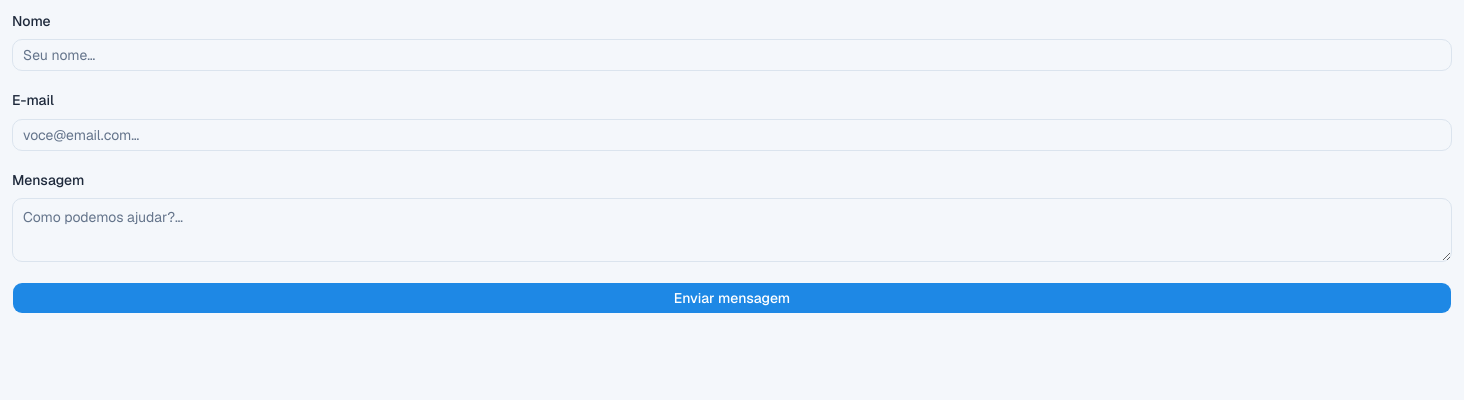
Test: FormularioContato › feedback de sucesso é acessível após envio
The image size is (1464, 400).
Type "Ana" into the field labelled "Nome".
click(732, 55); type("Ana")  # box [12,39,1452,71]
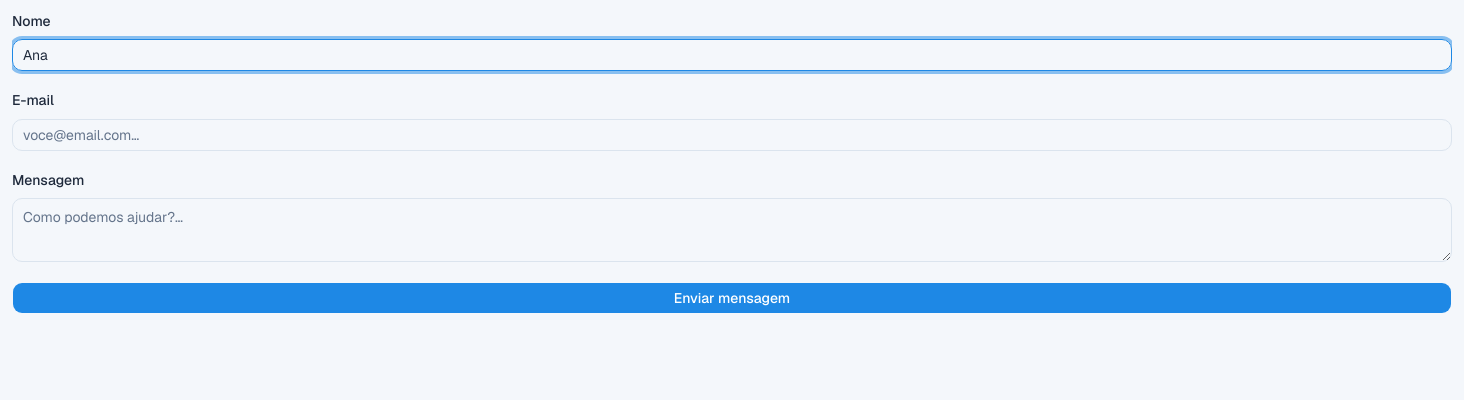
Type "ana@email.com" into the field labelled "E-mail".
click(732, 134); type("ana@email.com")  # box [12,118,1452,150]
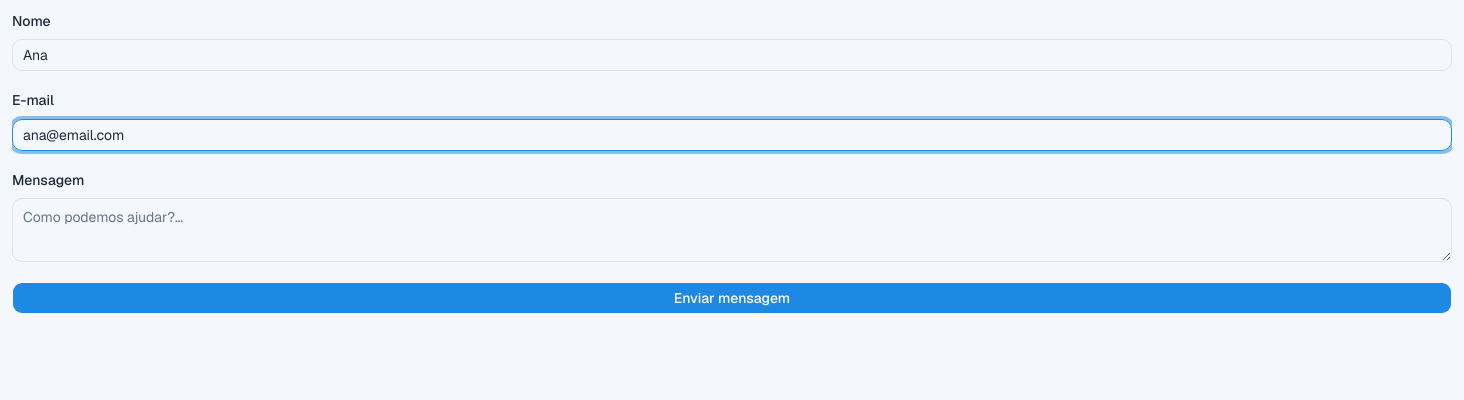
Type "Olá" into the text box labelled "Mensagem".
click(732, 230); type("Olá")  # box [12,198,1452,262]
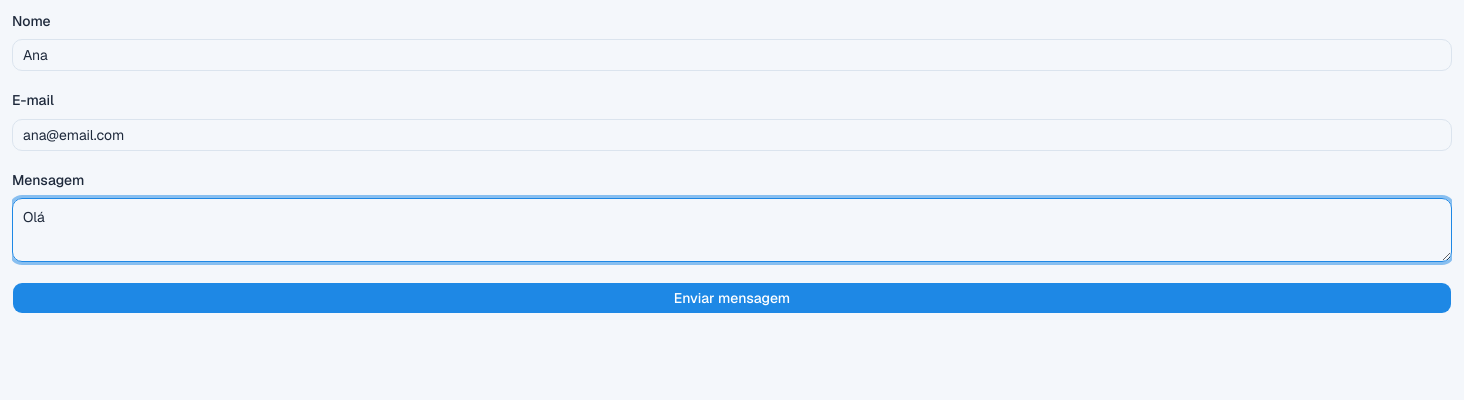
Click the button "Enviar mensagem".
click(732, 298)  # box [12,282,1452,314]
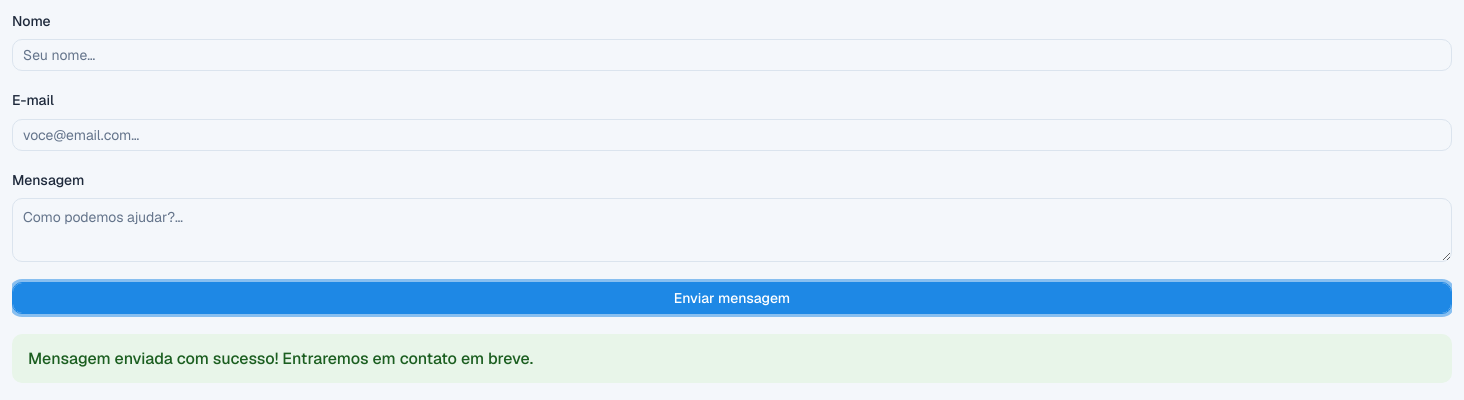
Result: the message shows "Mensagem enviada com sucesso" at [28,348,533,369]
